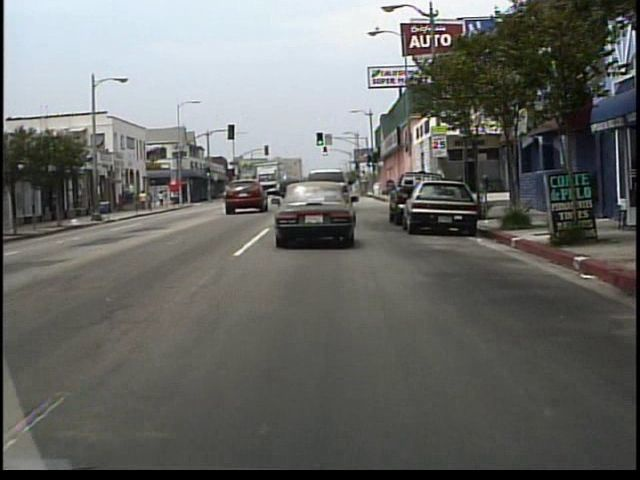person: (139, 189, 148, 212), (159, 188, 167, 208), (148, 191, 154, 210)
